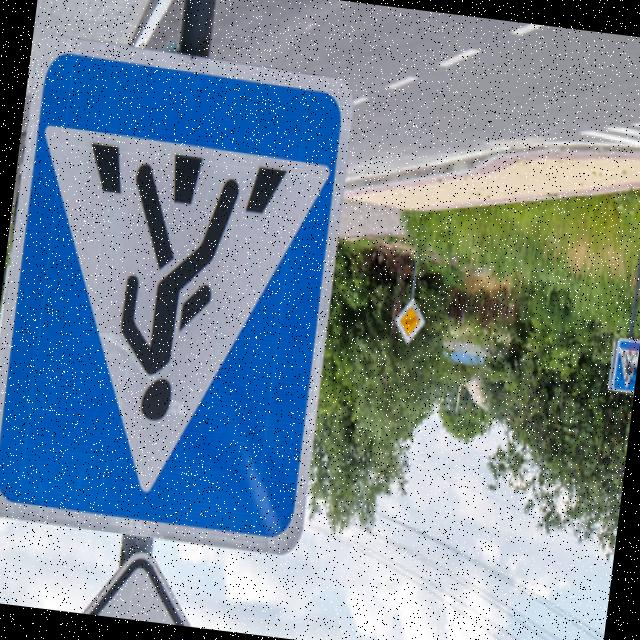crosswalk: (0, 32, 376, 578), (603, 325, 640, 413)
